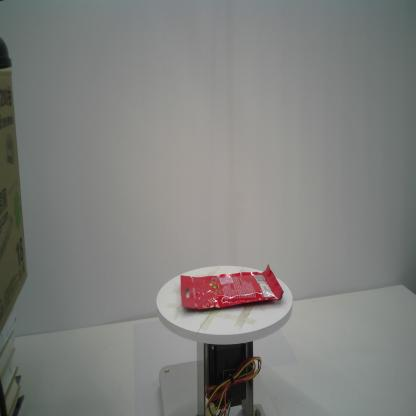Candy: (179, 262, 285, 312)
